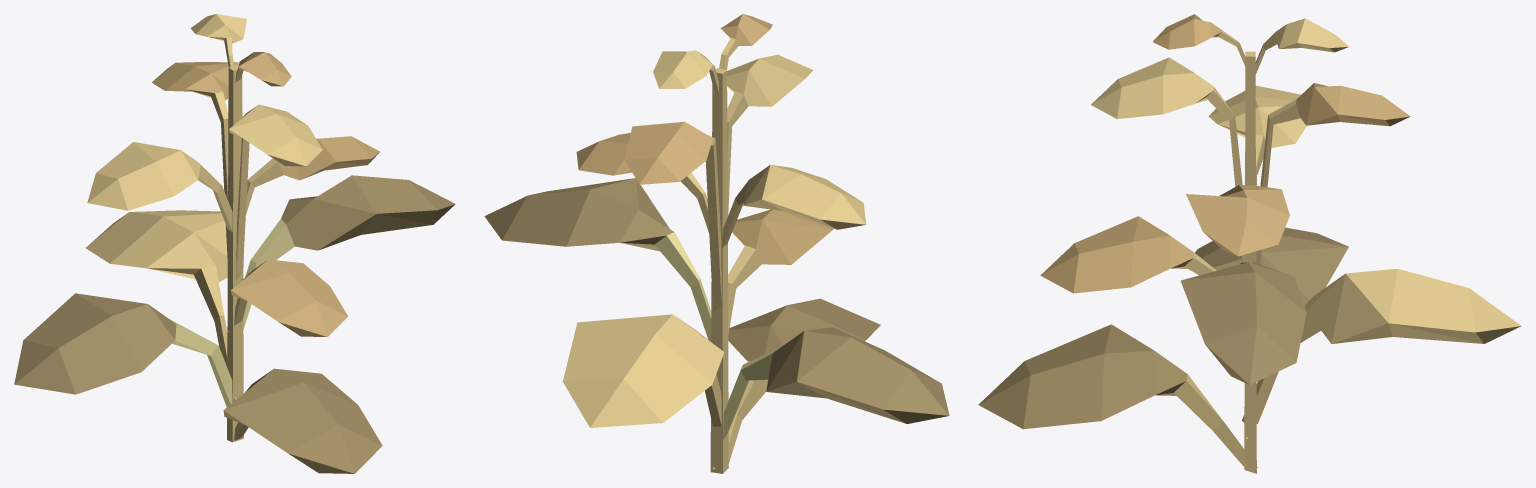
Rendered from EA_M_Env_Dry_Shrub_01a.fbx.
3 renders of one model, left to right at view 1: azimuth 30°, elevation 25°; view 2: azimuth 150°, elevation 25°; view 3: azimuth 270°, elevation 25°, orthographic. The views are drawn at different scales.
Parts seen in each view (by area): view 1: EA_M_Env_Dry_Shrub_01a_LOD0; view 2: EA_M_Env_Dry_Shrub_01a_LOD0; view 3: EA_M_Env_Dry_Shrub_01a_LOD0.
Boxes of the visible parts, box(x1,y1,x2,y2) form: EA_M_Env_Dry_Shrub_01a_LOD0: box(14, 14, 455, 473); EA_M_Env_Dry_Shrub_01a_LOD0: box(484, 14, 949, 473); EA_M_Env_Dry_Shrub_01a_LOD0: box(978, 14, 1521, 473).
Size of what is drawn, in the model's own units: 1.14 by 1.02 by 1.1.
